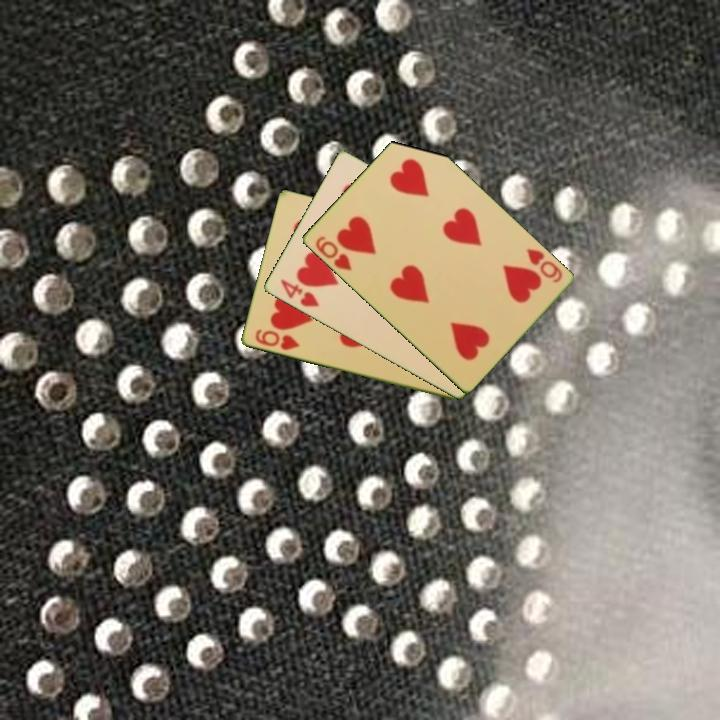4h: (276, 276, 322, 310)
6h: (312, 232, 355, 274), (522, 245, 565, 286), (251, 326, 302, 353)
